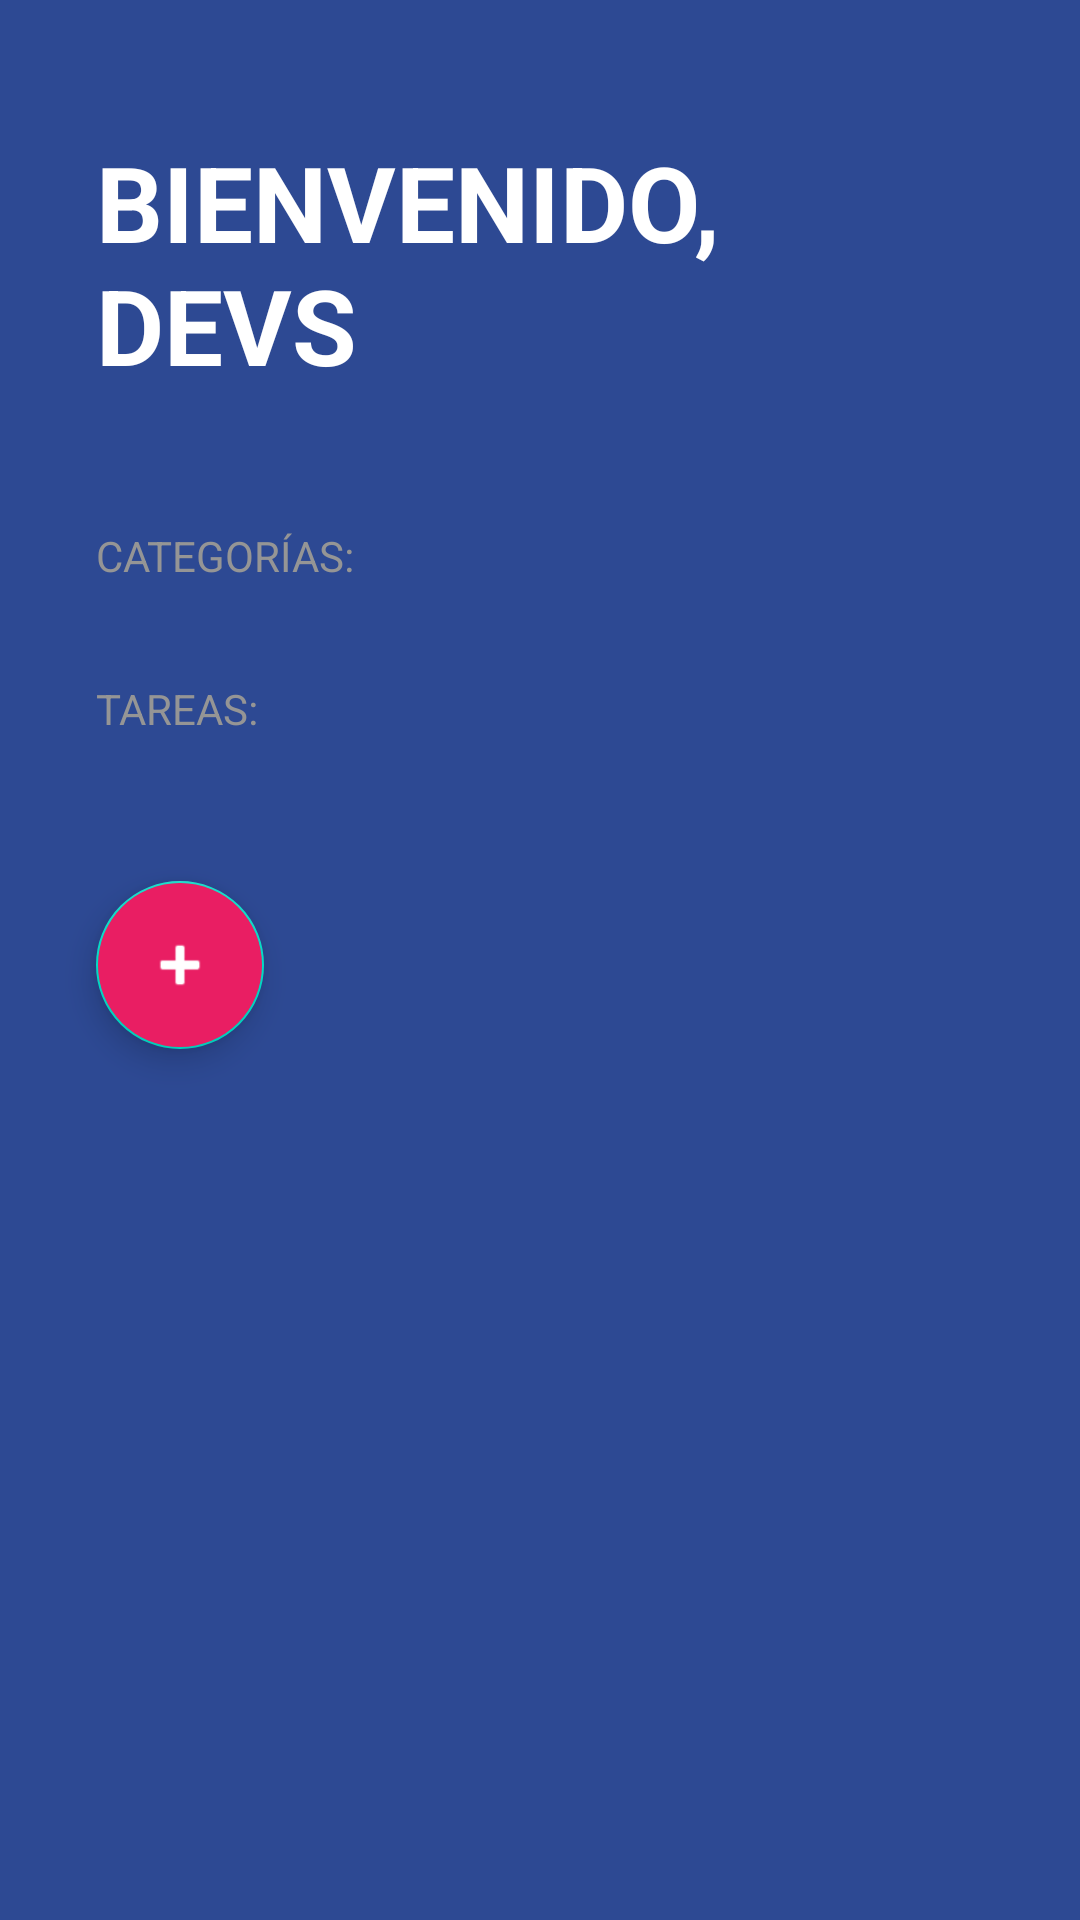

Icon bounding boxes for this 1080px×1920px phone screenshot, format [left=x1, top=y1, right=x2, bottom=y2]:
add: [left=96, top=881, right=264, bottom=1049]
